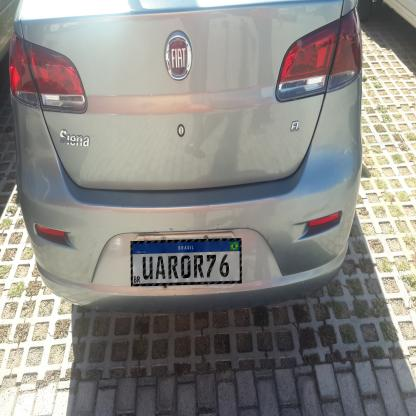PlacaM: (130, 238, 242, 287)
